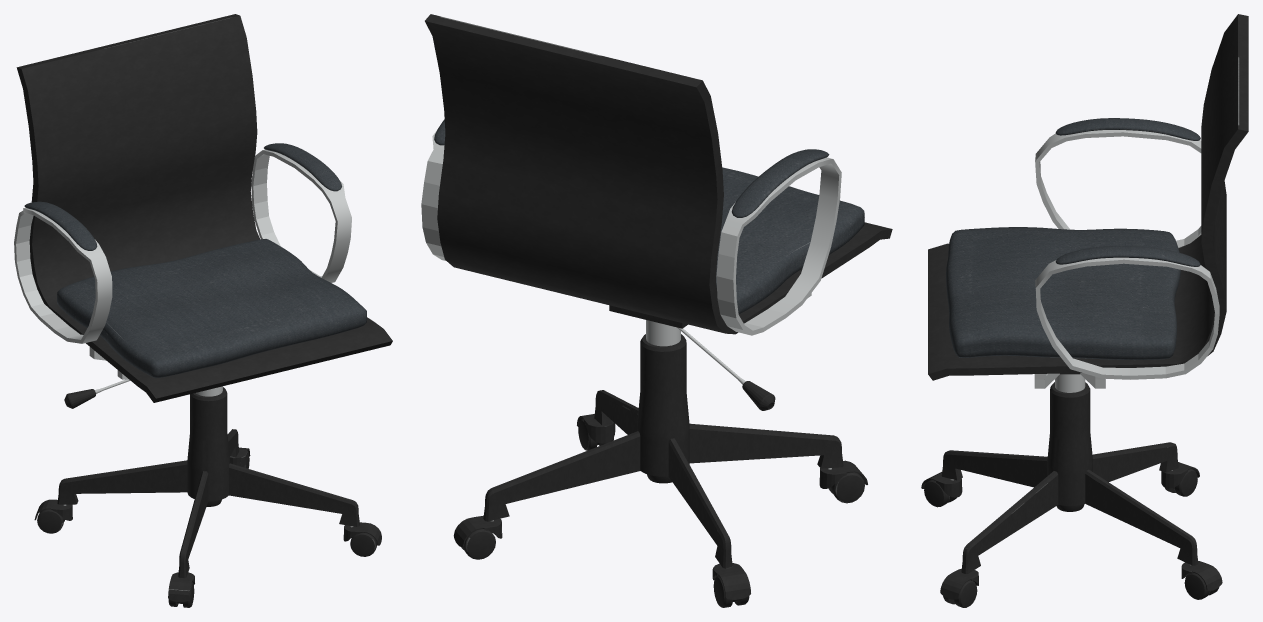
The model's file is Stuhl.fbx.
The picture shows the model from 3 angles, left to right: view 1: azimuth 30°, elevation 25°; view 2: azimuth 150°, elevation 25°; view 3: azimuth 270°, elevation 25°; orthographic projection. The views are drawn at different scales.
Visible parts, largest first — view 1: Stuhl_LOD0; view 2: Stuhl_LOD0; view 3: Stuhl_LOD0.
Boxes of the visible parts, left/top/right/bottom form: Stuhl_LOD0: left=14, top=14, right=392, bottom=607; Stuhl_LOD0: left=421, top=14, right=892, bottom=607; Stuhl_LOD0: left=921, top=14, right=1248, bottom=607.
Size of what is drawn, in the model's own units: 69.16 by 110 by 68.42.
1 material, 1 textured.
